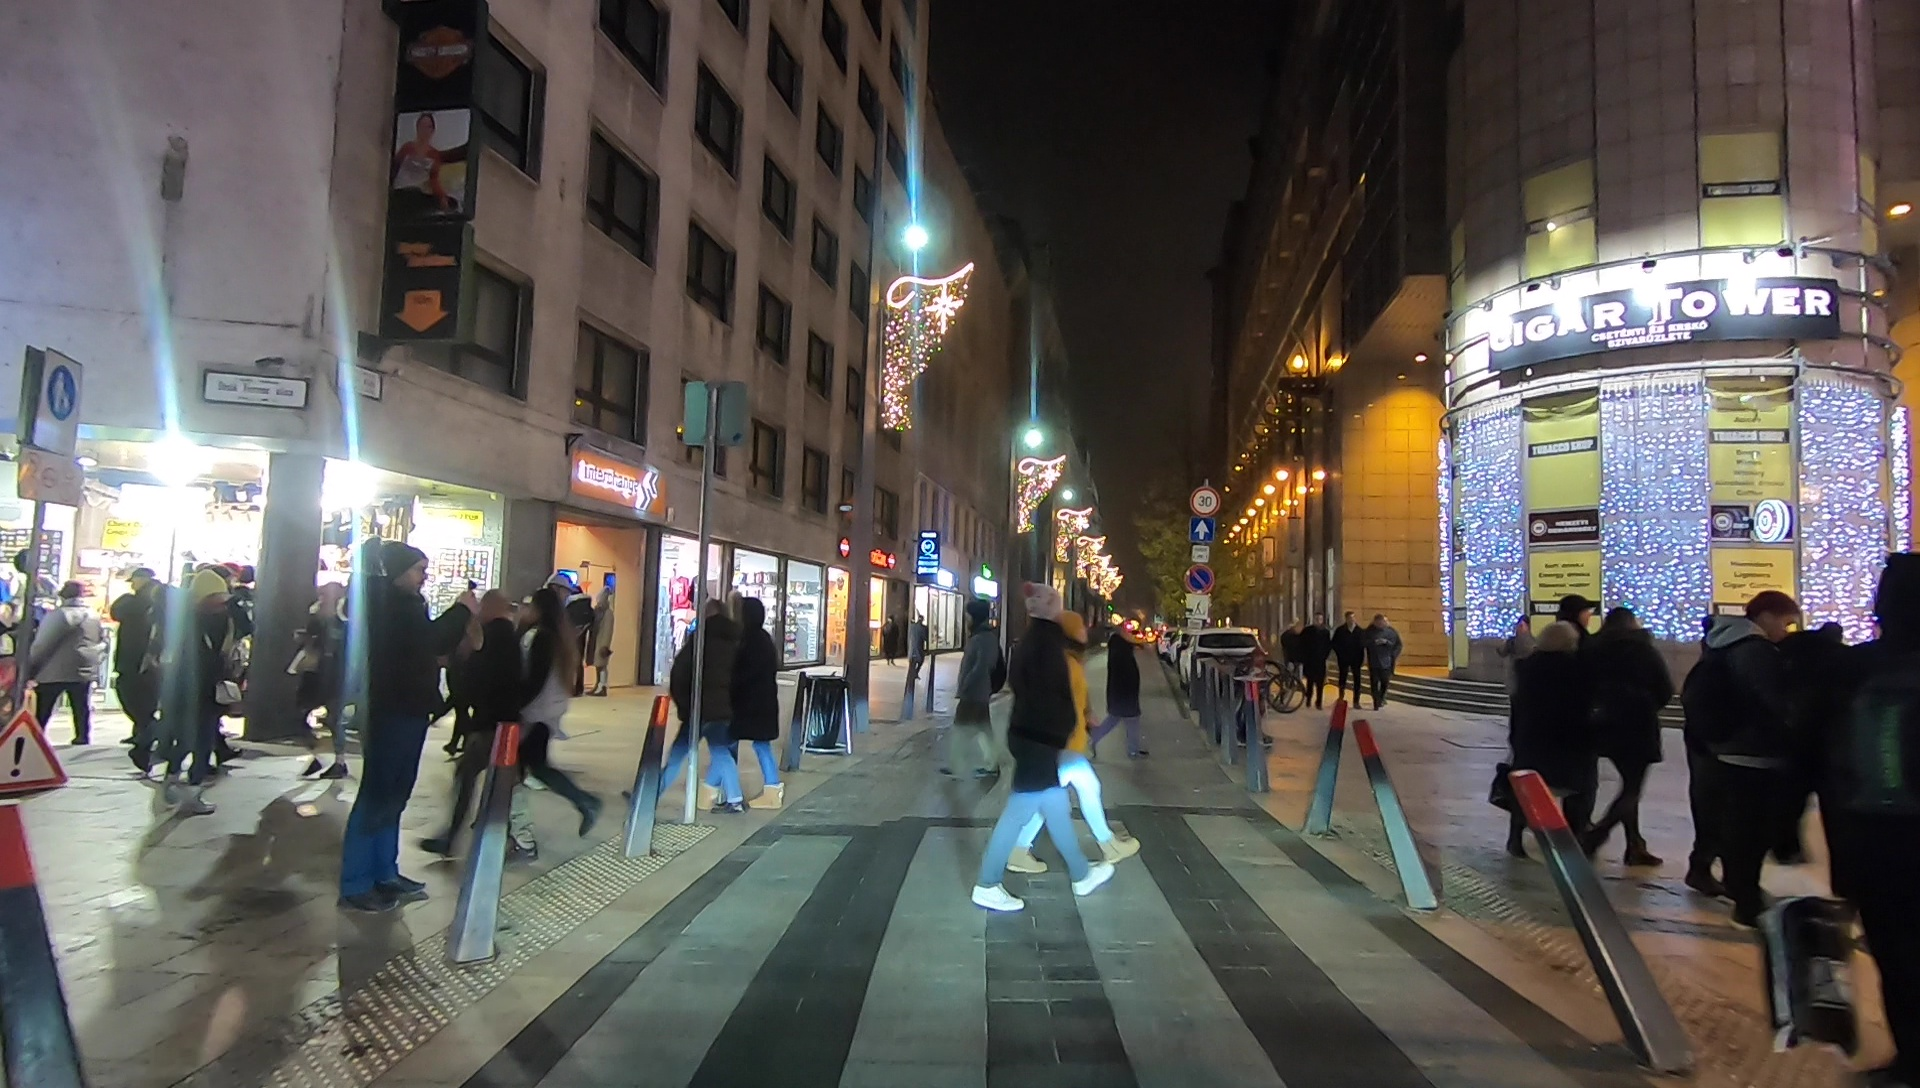person: (1823, 550, 1917, 1088), (965, 576, 1101, 919), (354, 537, 467, 897), (1686, 589, 1793, 930), (1032, 613, 1149, 865), (502, 584, 608, 852), (1493, 621, 1589, 861), (693, 589, 793, 817), (652, 597, 752, 821), (454, 582, 532, 856), (1591, 608, 1664, 865), (26, 586, 101, 741), (943, 593, 1002, 787), (123, 569, 160, 734), (1365, 613, 1397, 711), (1301, 613, 1330, 706), (1334, 613, 1364, 702)
